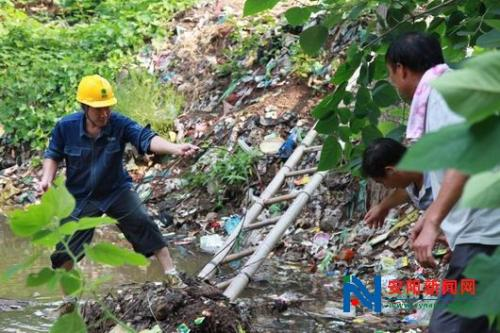hard-hat: (76, 73, 117, 107)
person: (36, 73, 200, 289), (384, 30, 500, 332), (361, 136, 450, 268)
